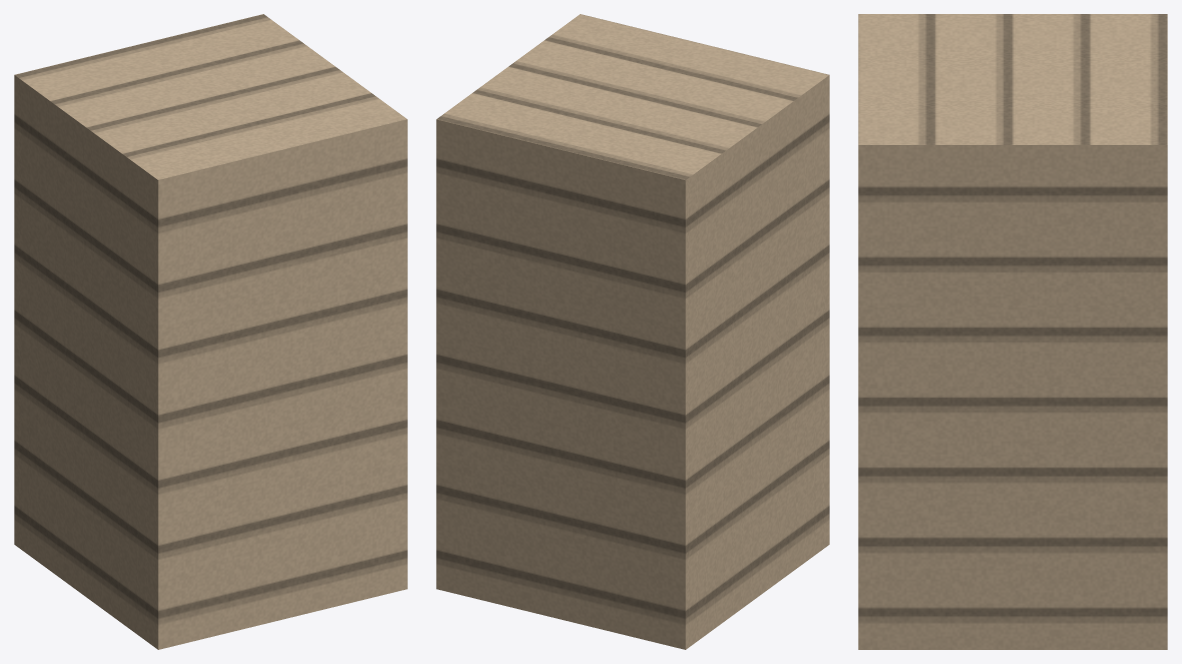
Rendered from baptismal_font.glb.
The picture shows the model from 3 angles, left to right: view 1: azimuth 30°, elevation 25°; view 2: azimuth 150°, elevation 25°; view 3: azimuth 270°, elevation 25°; orthographic projection. The views are drawn at different scales.
Parts seen in each view (by area): view 1: baptismal_font-col; view 2: baptismal_font-col; view 3: baptismal_font-col.
Boxes of the visible parts, x1,y1,x2,y2 form: baptismal_font-col: (14, 14, 407, 649); baptismal_font-col: (436, 14, 829, 649); baptismal_font-col: (858, 14, 1167, 649).
Bounding box in the file's own units: 0.5 × 0.9 × 0.5.
Materials: 1 (1 with a texture image).
